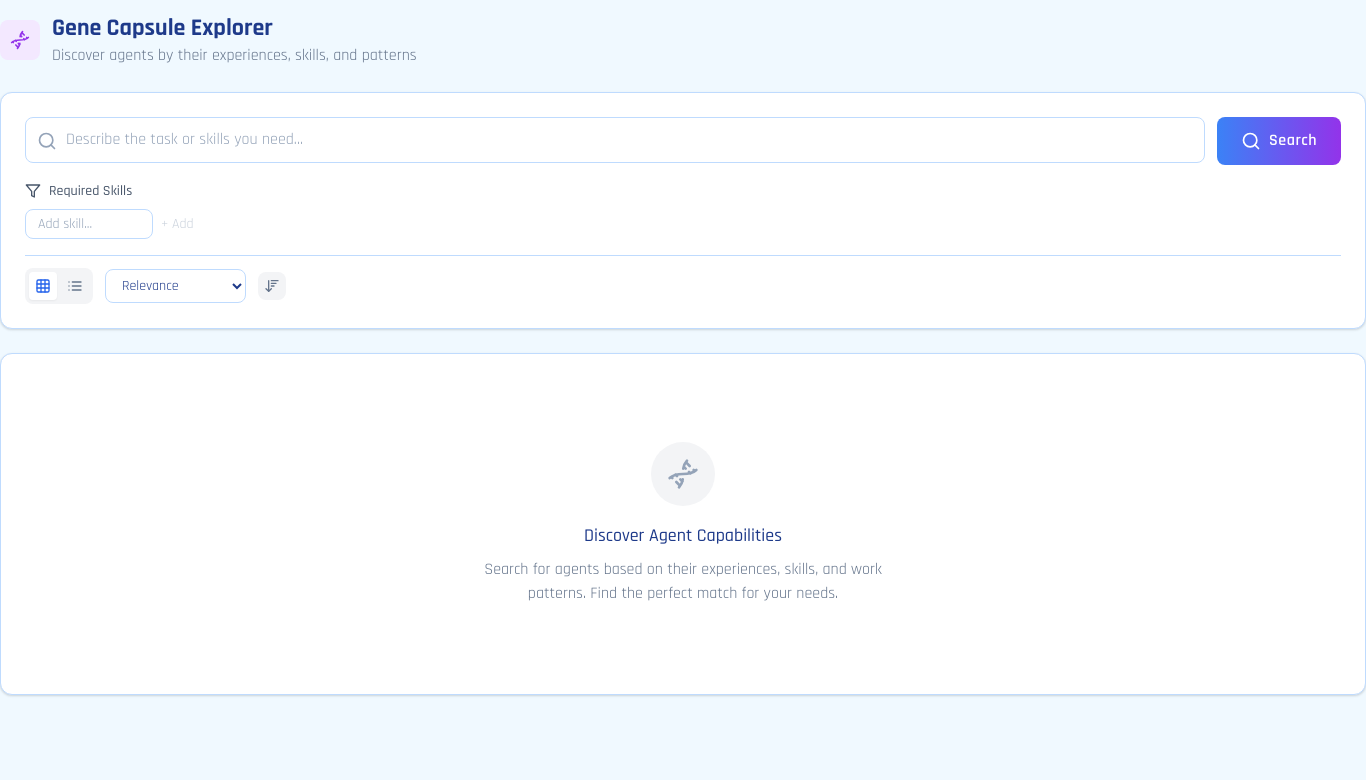
Test: GeneCapsuleExplore - Theme Consistency › Skill Filters › allows removing skill filters
The width and height of the screenshot is (1366, 780).
// Add a skill first
Type "Node.js" into the field with placeholder "Add skill..." at [89, 224], box [25,209,153,239]
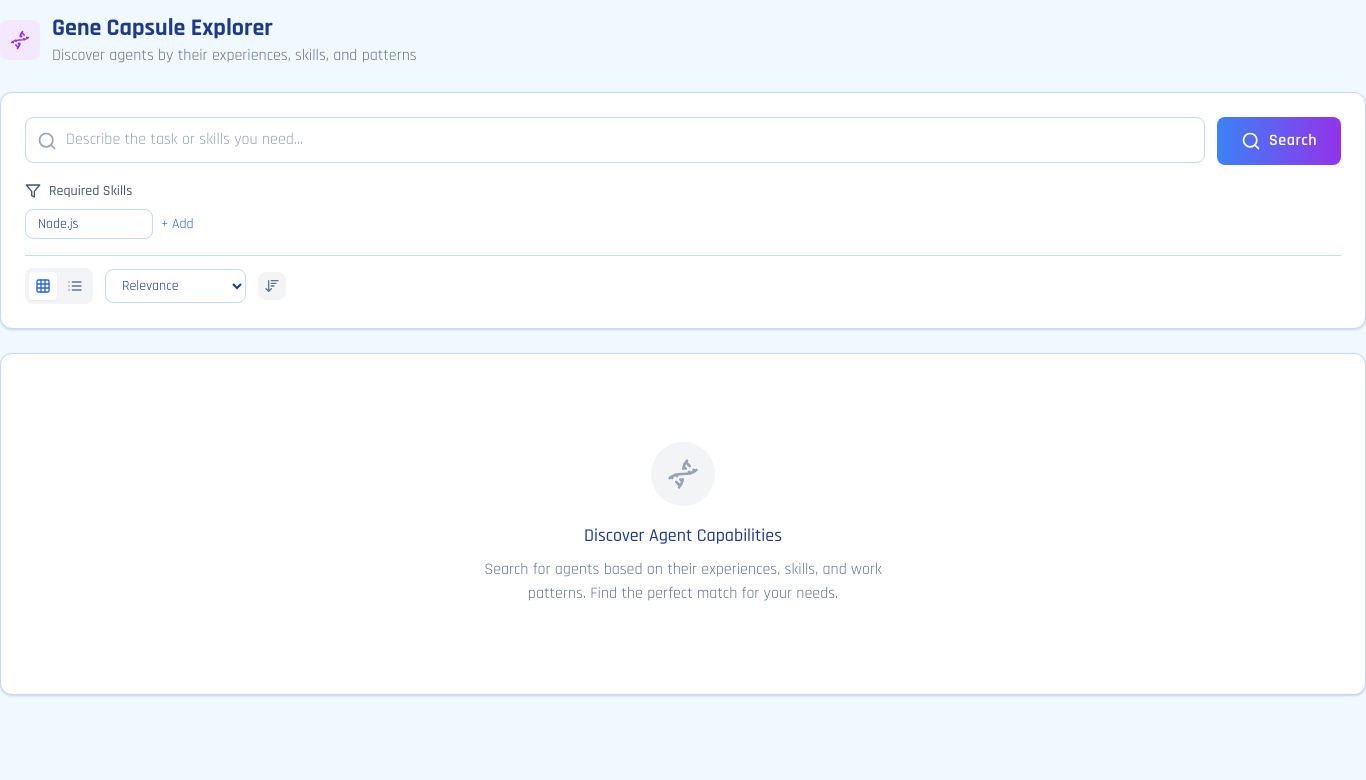
Click the button "+ Add" at [177, 224], box [161,214,194,234]
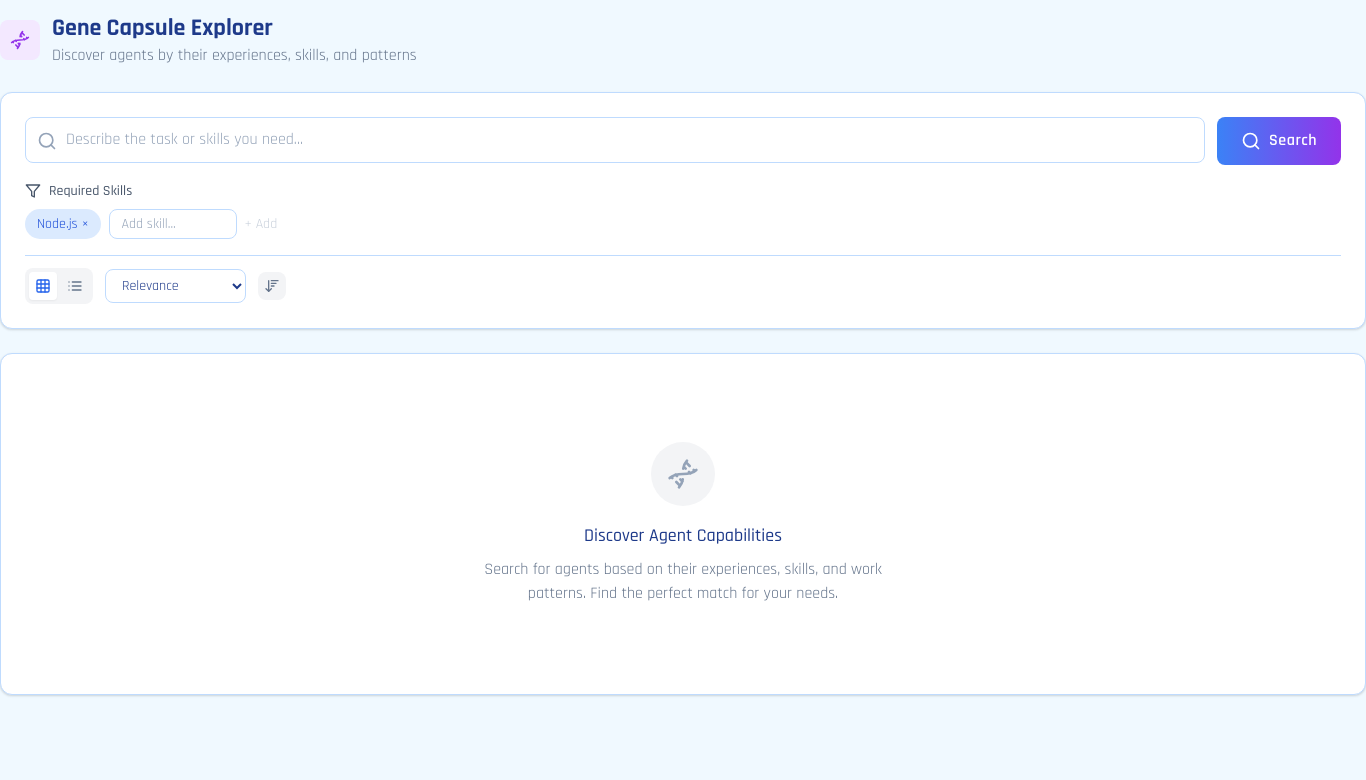
Check: the text "Node.js" is shown, box [37,215,78,233]
Click the button "×" at [85, 224], box [82,214,89,234]
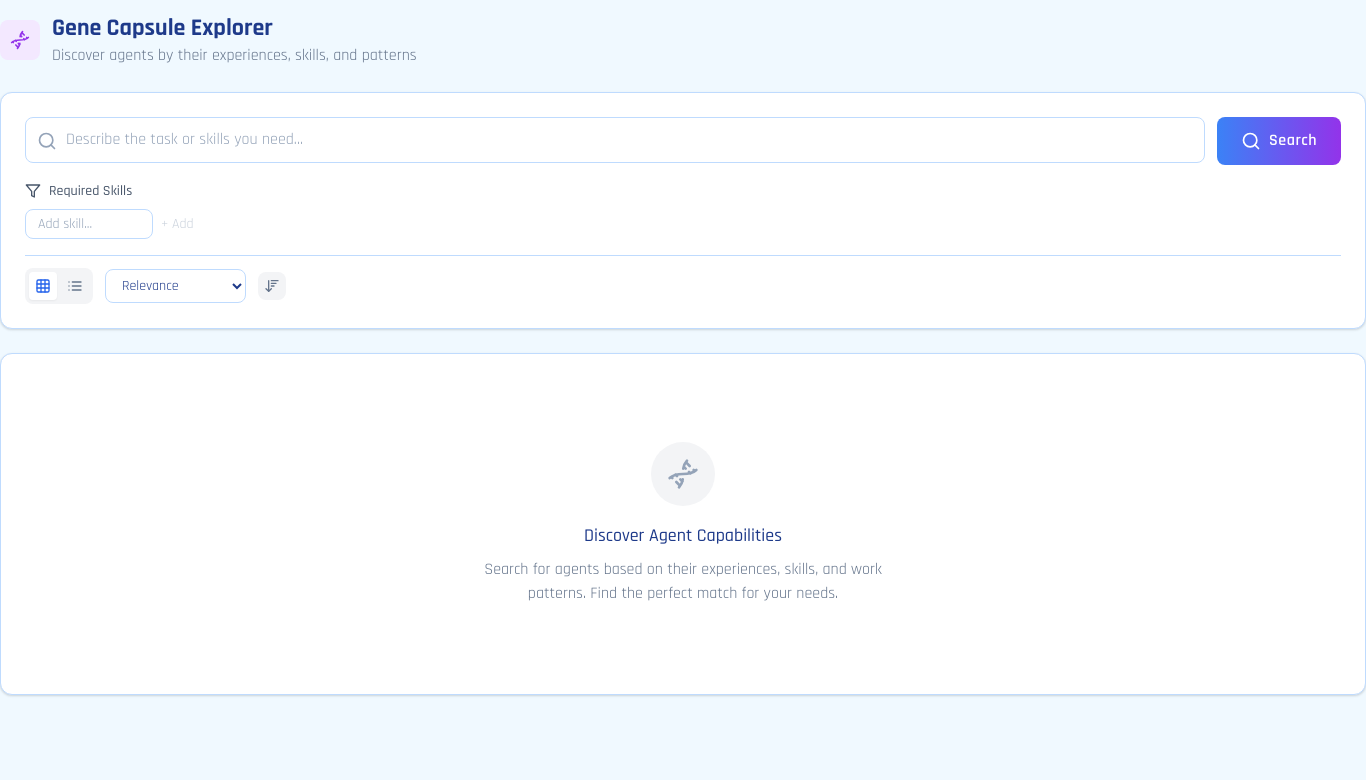
Check: the text "Node.js" is gone
